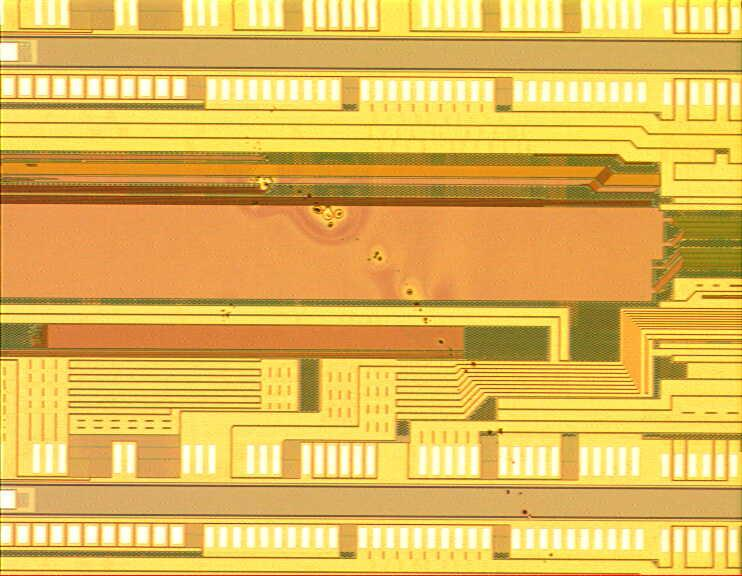PO CONTAMINATION: (217, 99, 560, 565)
